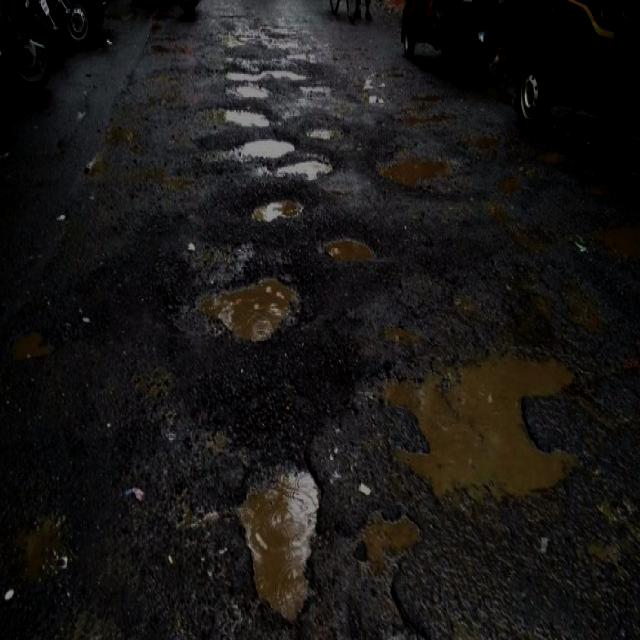Pothole: (186, 142, 521, 640)
